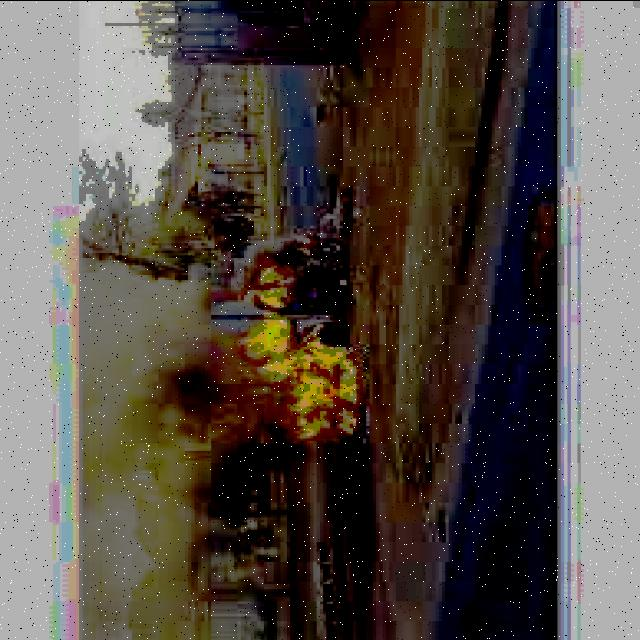api: (229, 259, 371, 451)
